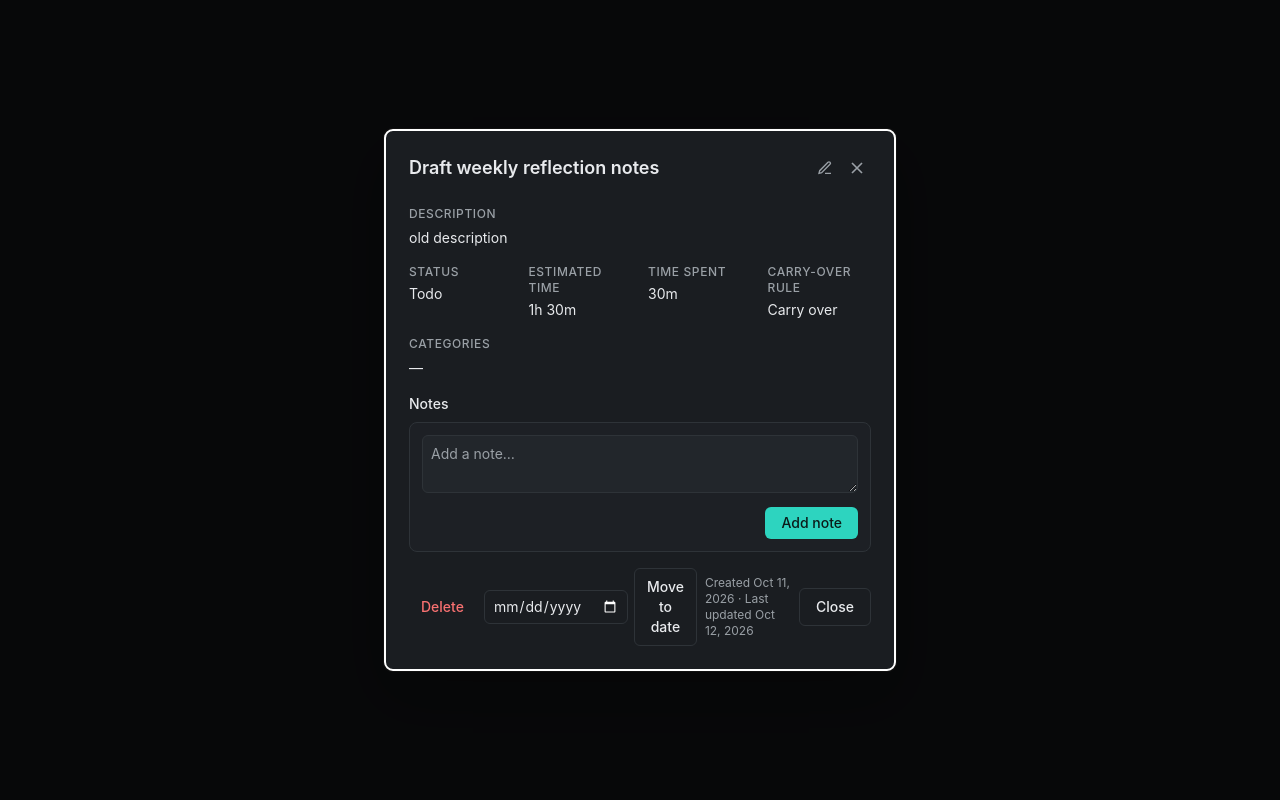
it: EditTaskDialog › pre-fills every editable field from the task
The image size is (1280, 800).
Click the button named "Edit": point(825, 168) [811,154,839,182]
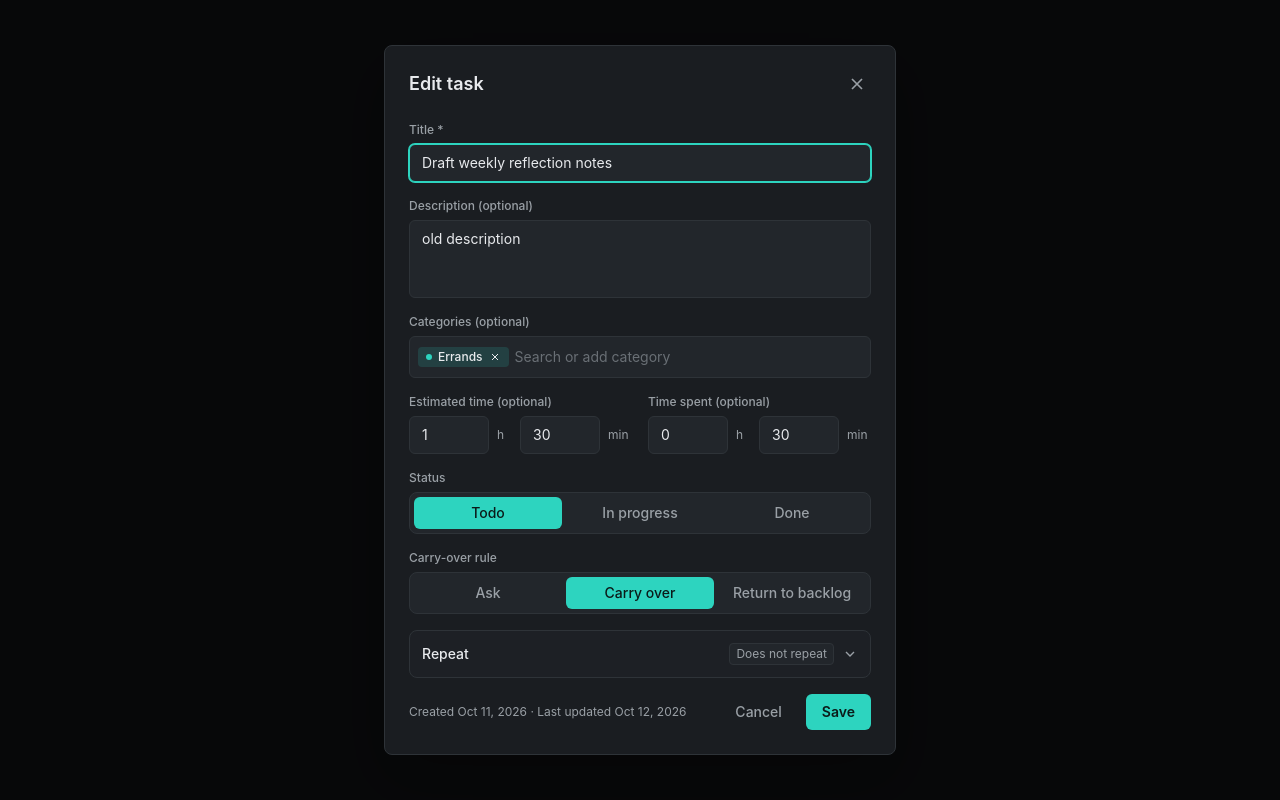
Expected: the field labelled "Title *" holds "Draft weekly reflection notes", [409,144,871,182]
Expected: the text box labelled "Description (optional)" holds "old description", [409,220,871,298]
Expected: the number field named "Estimated hours" holds "1", [409,416,489,454]
